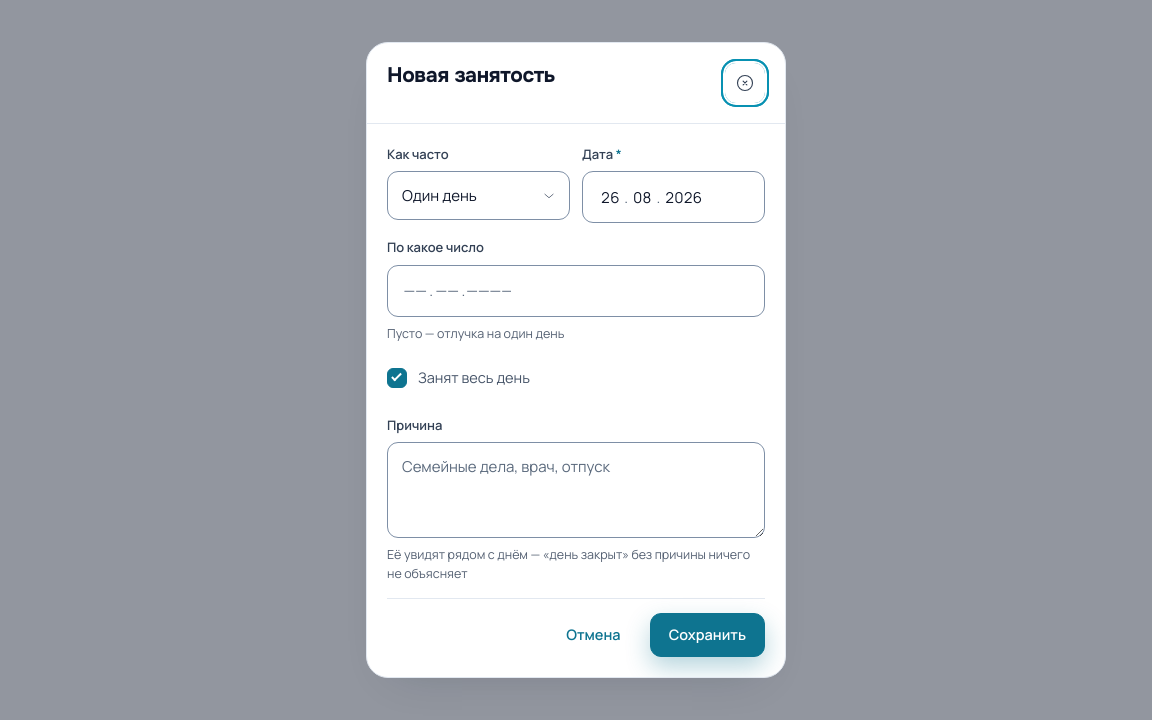
Окно занятости › снятая галочка «весь день» открывает часы
The image size is (1152, 720).
Click the checkbox labelled "Занят весь день" at (397, 378), box left=387, top=368, right=407, bottom=388
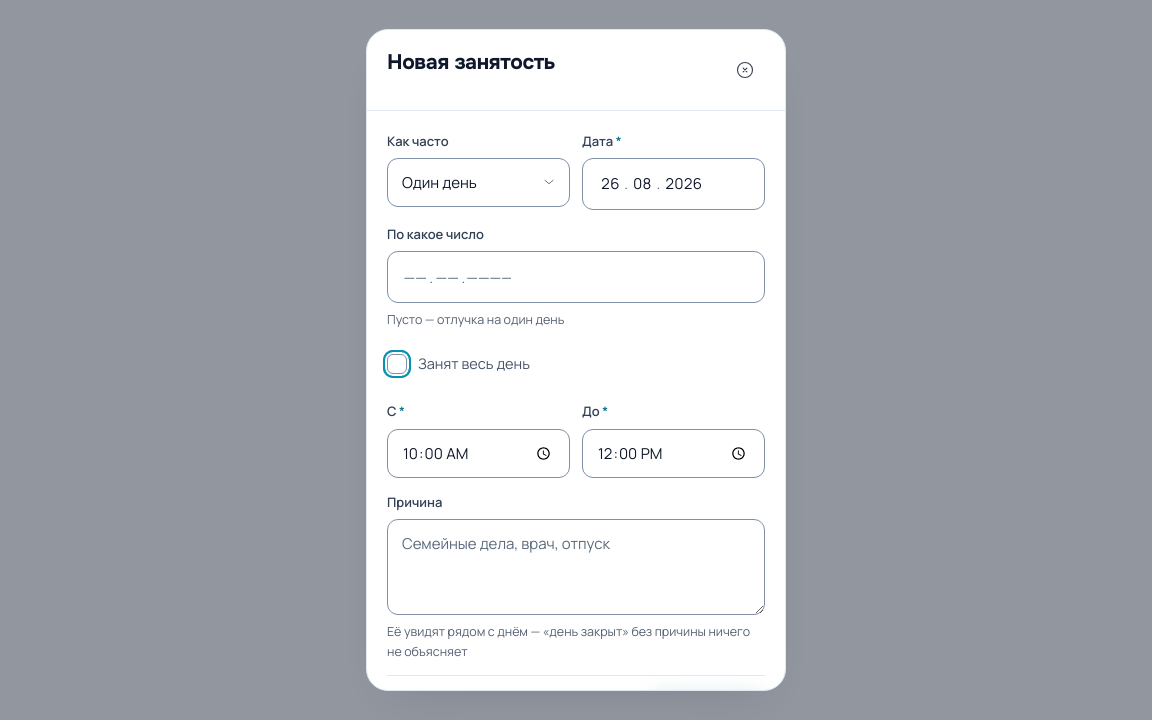
Expected: the time field labelled "С *" holds "10:00", left=387, top=429, right=570, bottom=478
Expected: the time field labelled "До *" holds "12:00", left=582, top=429, right=765, bottom=478
